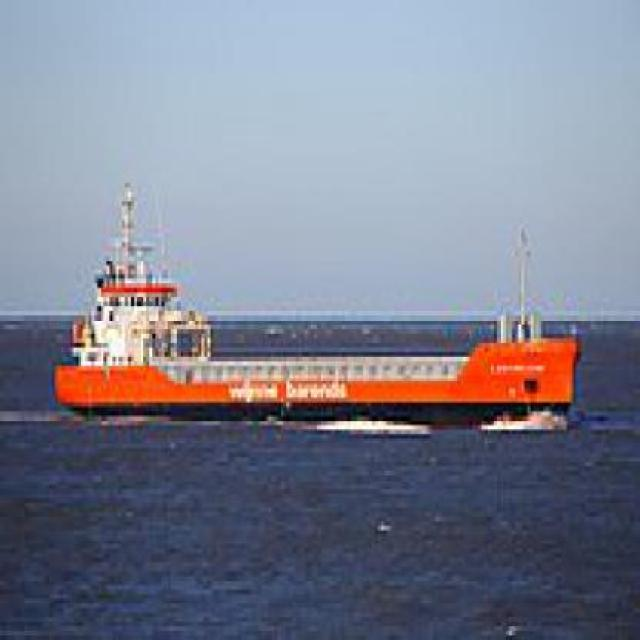container: (50, 160, 593, 440)
